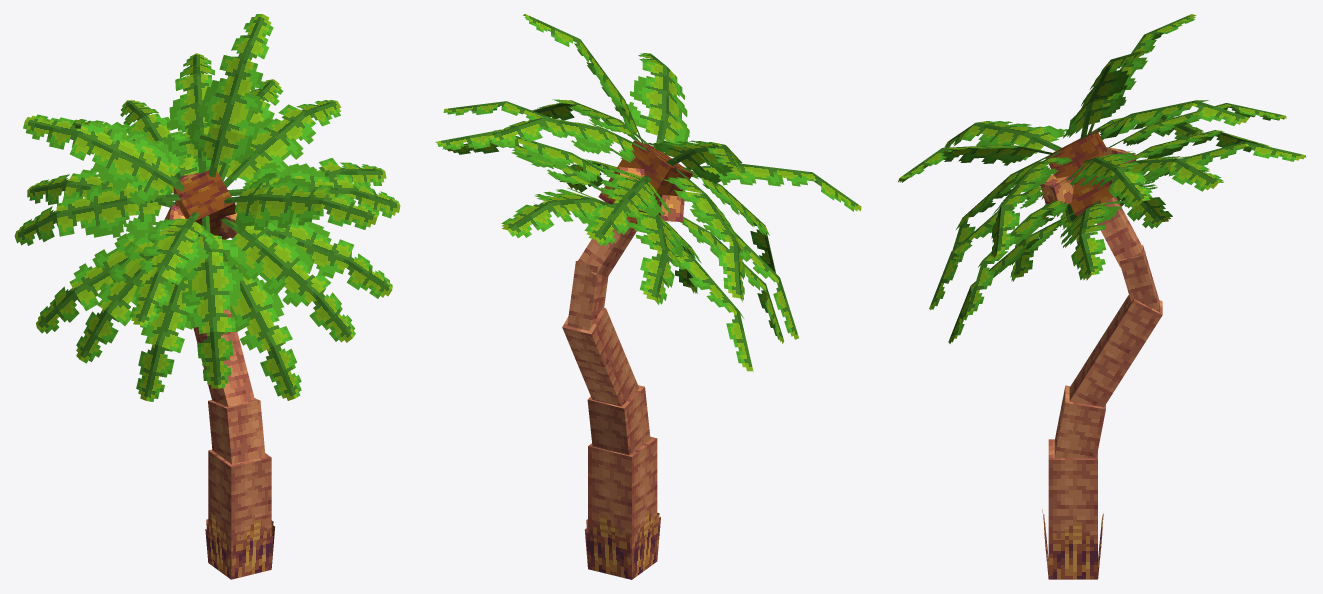
The model's file is Palm2.gltf.
3 views of the same model, side by side, from view 1: azimuth 30°, elevation 25°; view 2: azimuth 150°, elevation 25°; view 3: azimuth 270°, elevation 25° (orthographic). The views are drawn at different scales.
Visible parts, largest first — view 1: cube; view 2: cube; view 3: cube.
Part boxes in pixels (left/top/right/bottom): cube: left=14, top=14, right=400, bottom=579; cube: left=435, top=14, right=861, bottom=579; cube: left=898, top=14, right=1305, bottom=579.
Size of the model in its own units: 6.12 by 9.17 by 6.34.
